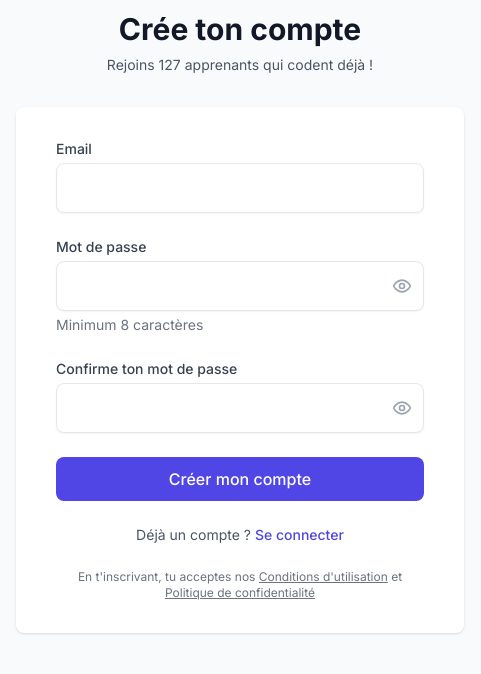
Test: RegisterPage Integration › Validation errors display › should display password mismatch error
Type "password123" into the password field labelled "Mot de passe" at coordinates (240, 286), box [56,261,424,311]
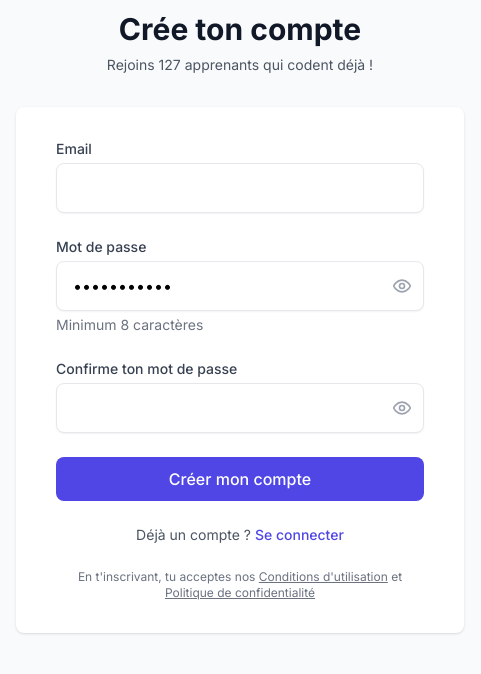
Type "different" into the password field labelled "Confirme ton mot de passe" at coordinates (240, 408), box [56,383,424,433]
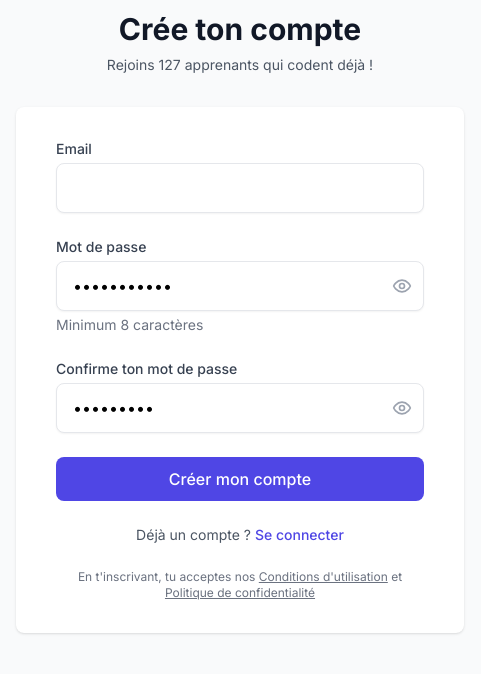
Leave the password field labelled "Confirme ton mot de passe", box [56,383,424,433]
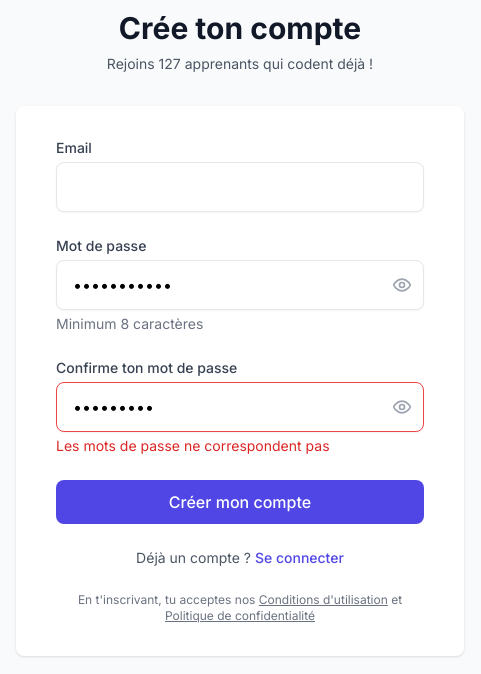
Expected: the text "Les mots de passe ne correspondent pas" is shown, [56,437,330,454]
